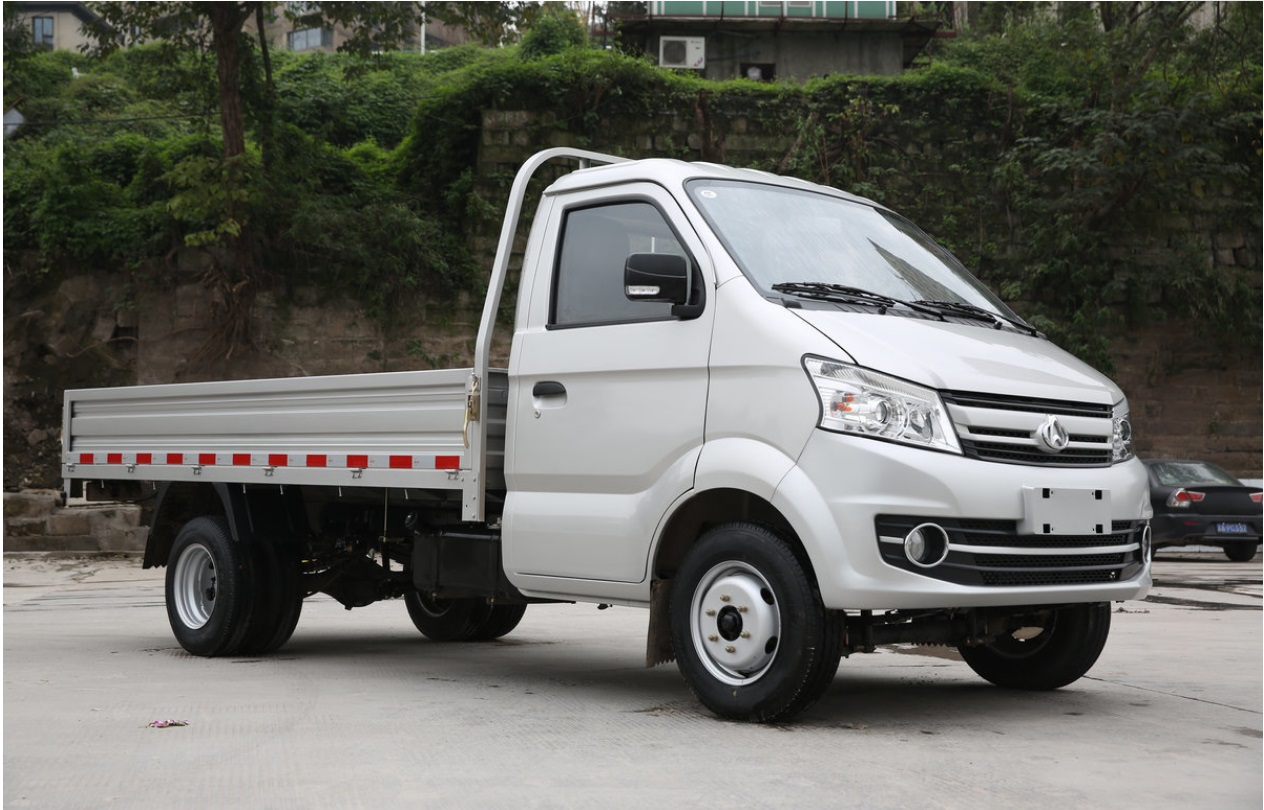truck: (56, 143, 1155, 725)
